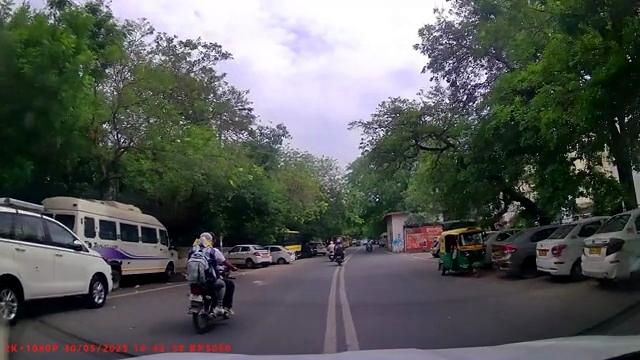passenger_with_helmet: (184, 230, 236, 333)
